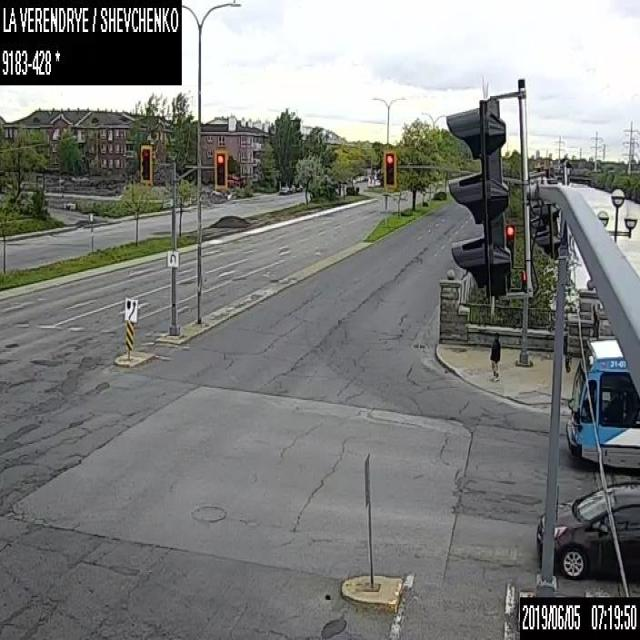bus: (565, 337, 639, 471)
pedestrian: (489, 332, 500, 377)
vehicle: (536, 480, 639, 577), (279, 186, 288, 193), (288, 183, 294, 193), (295, 183, 302, 191)
